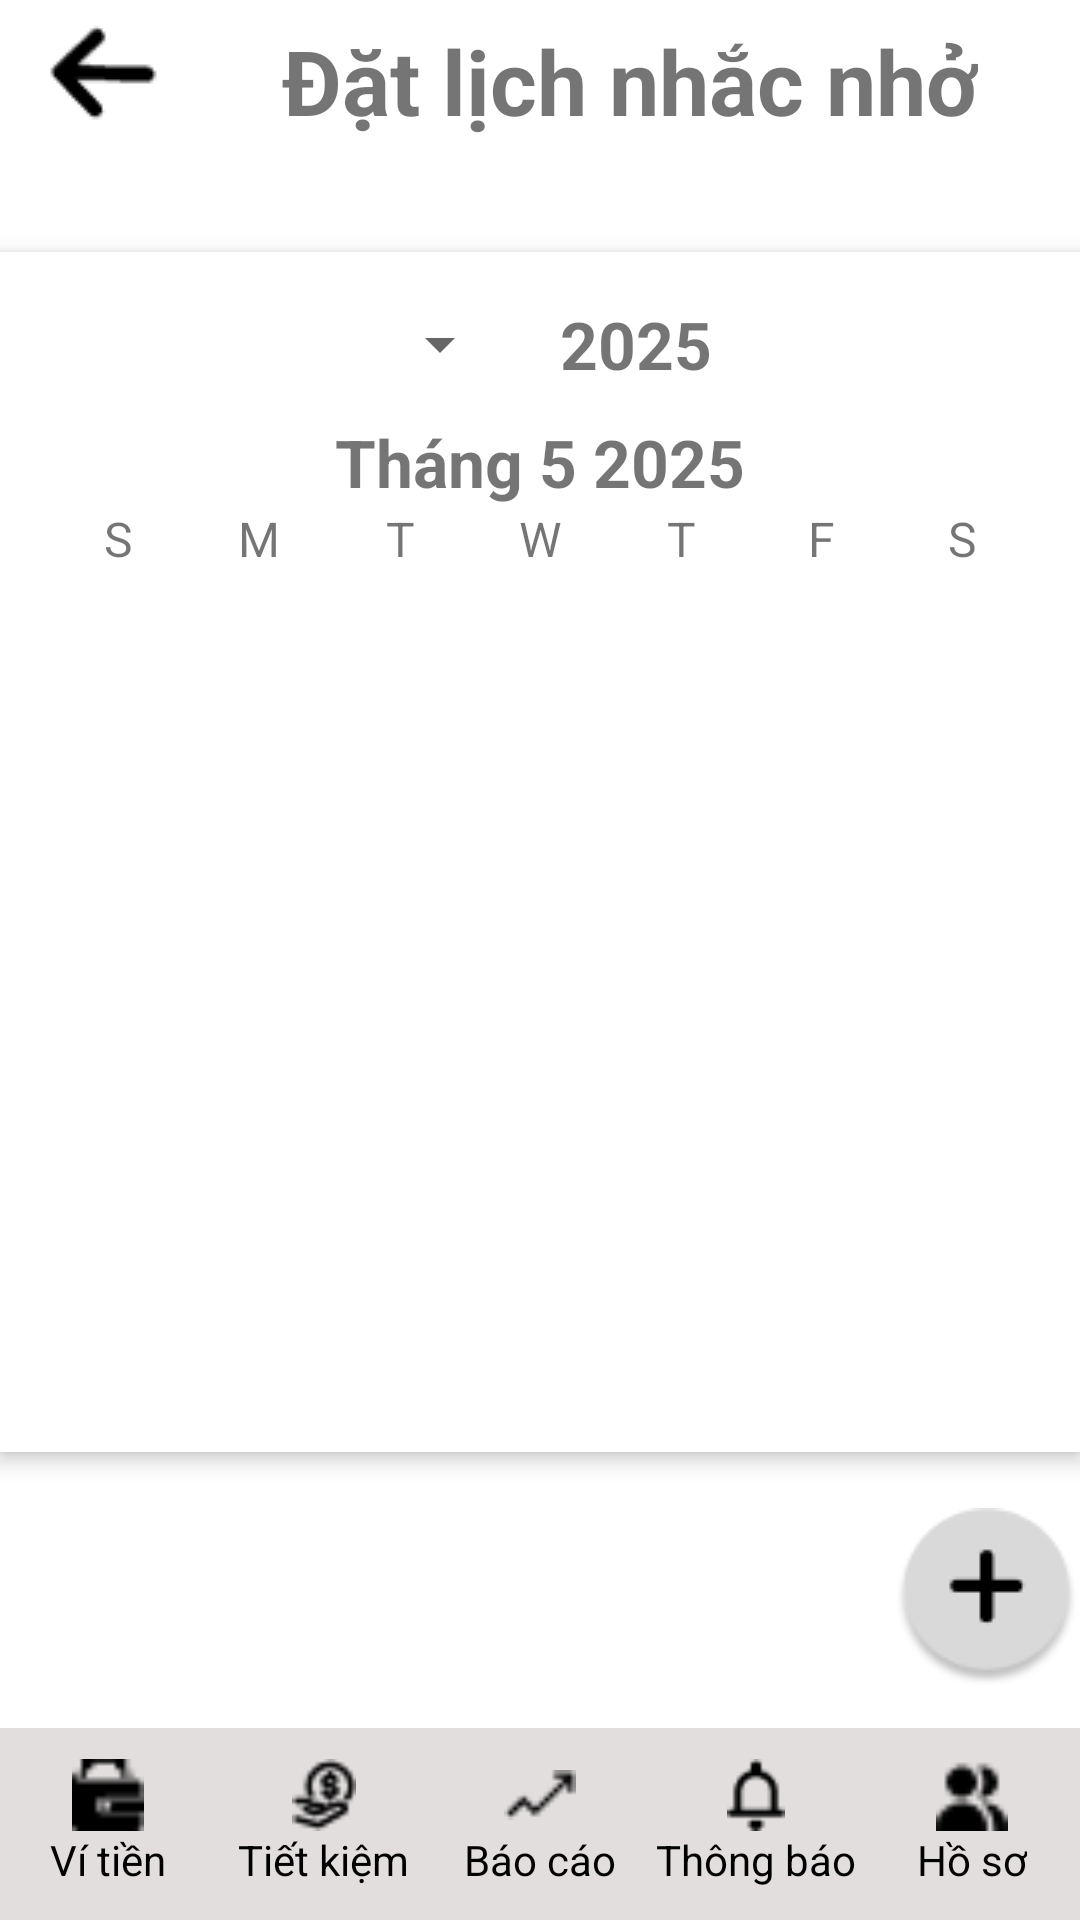

Where to tap for icons on this 1080 x 1920 app screen, as (x=x, y=y):
Back: (x=103, y=73)
Nút thêm: (x=986, y=1593)
